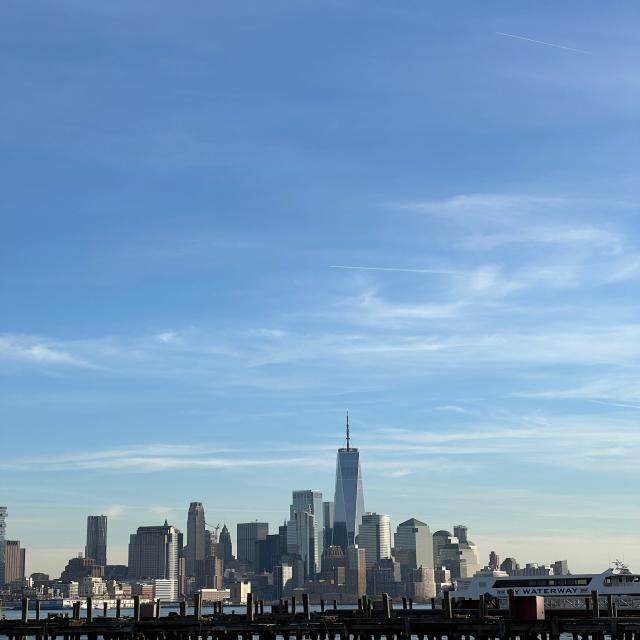WTC: (333, 408, 365, 552)
